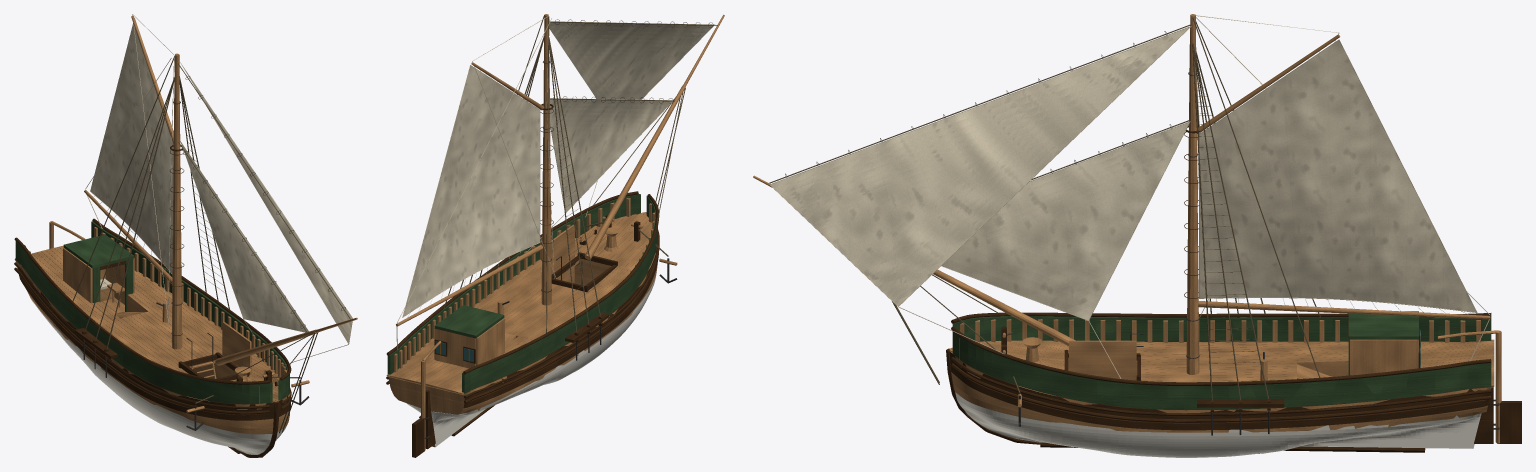
Rendered from ship_lod1.glb.
3 renders of one model, left to right at view 1: azimuth 30°, elevation 25°; view 2: azimuth 150°, elevation 25°; view 3: azimuth 270°, elevation 25°, orthographic. The views are drawn at different scales.
Parts seen in each view (by area): view 1: lod1_gaff_main_set_1, lod1_sloop_hull_1, lod1_individual_deck_boards_1, lod1_inner_staysail_set_1, lod1_merchant_bulwark_1, lod1_outer_jib_set_1, lod1_main_mast_timber_1, lod1_merchant_bulwark_3, lod1_cabin_roof_1, lod1_caprail_1, lod1_cabin_side_1, lod1_wale_3 (+16 smaller); view 2: lod1_gaff_main_set_1, lod1_individual_deck_boards_1, lod1_outer_jib_set_1, lod1_sloop_hull_1, lod1_inner_staysail_set_1, lod1_merchant_bulwark_1, lod1_merchant_bulwark_3, lod1_main_mast_timber_1, lod1_cabin_roof_1, lod1_bowsprit_timber_1, lod1_caprail_1, lod1_cabin_rear_1 (+17 smaller); view 3: lod1_gaff_main_set_1, lod1_outer_jib_set_1, lod1_sloop_hull_1, lod1_inner_staysail_set_1, lod1_merchant_bulwark_3, lod1_individual_deck_boards_1, lod1_merchant_bulwark_1, lod1_main_mast_timber_1, lod1_cargo_hatch_lid_open_1, lod1_caprail_3, lod1_cabin_side_3, lod1_wale_7 (+10 smaller).
Part boxes in pixels (x1,y1,x2,y2): lod1_gaff_main_set_1: (90,24,173,273); lod1_sloop_hull_1: (14,259,290,454); lod1_individual_deck_boards_1: (15,245,279,402); lod1_inner_staysail_set_1: (181,142,308,332); lod1_merchant_bulwark_1: (15,241,272,404); lod1_outer_jib_set_1: (183,67,352,343); lod1_main_mast_timber_1: (171,53,182,349); lod1_merchant_bulwark_3: (91,221,289,400); lod1_cabin_roof_1: (63,234,134,268); lod1_caprail_1: (14,237,270,384); lod1_cabin_side_1: (63,248,92,302); lod1_wale_3: (14,267,269,414); lod1_gaff_main_set_1: (403,65,539,316); lod1_individual_deck_boards_1: (387,212,652,393); lod1_outer_jib_set_1: (549,22,713,99); lod1_sloop_hull_1: (386,214,658,447); lod1_inner_staysail_set_1: (550,99,672,212); lod1_merchant_bulwark_1: (462,196,657,393); lod1_merchant_bulwark_3: (387,194,640,374); lod1_main_mast_timber_1: (541,14,551,305); lod1_cabin_roof_1: (434,305,504,338); lod1_bowsprit_timber_1: (584,85,685,259); lod1_caprail_1: (463,194,659,374); lod1_cabin_rear_1: (435,329,475,368); lod1_gaff_main_set_1: (1199,40,1476,312); lod1_outer_jib_set_1: (770,27,1189,306); lod1_sloop_hull_1: (949,345,1494,457); lod1_inner_staysail_set_1: (942,122,1189,320); lod1_merchant_bulwark_3: (952,331,1491,409); lod1_individual_deck_boards_1: (949,339,1494,386); lod1_merchant_bulwark_1: (952,316,1491,341); lod1_main_mast_timber_1: (1186,14,1199,374); lod1_cargo_hatch_lid_open_1: (1069,340,1136,380); lod1_caprail_3: (951,326,1491,385); lod1_cabin_side_3: (1350,339,1417,375); lod1_wale_7: (951,363,1491,422).
Size of the model in its own units: 5.83 by 15.4 by 24.55.
11 materials, 9 textured.
